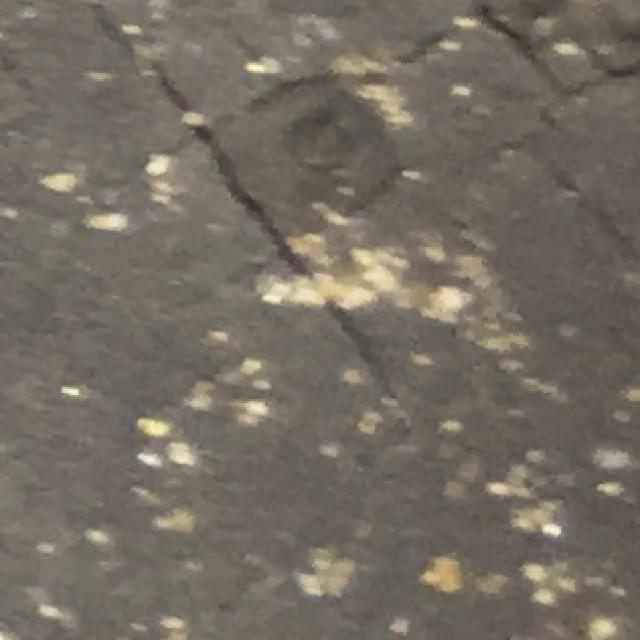Cracks: (61, 0, 640, 450)
